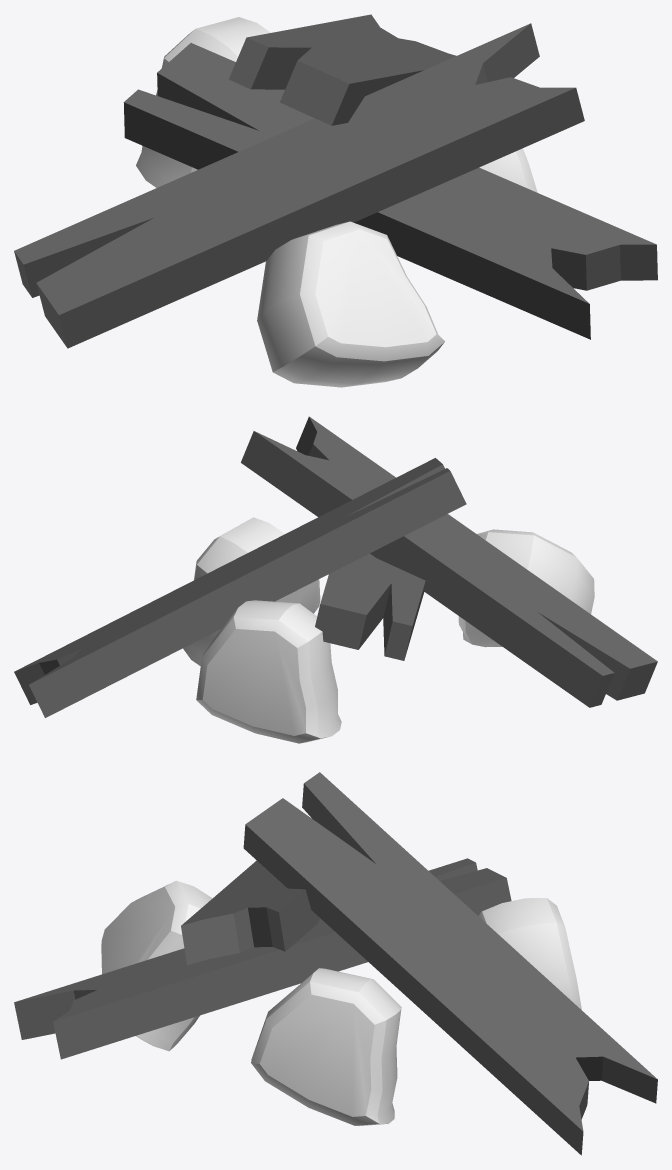
Rendered from SM_Rubbish.fbx.
The picture shows the model from 3 angles, top to bottom: view 1: azimuth 30°, elevation 25°; view 2: azimuth 150°, elevation 25°; view 3: azimuth 270°, elevation 25°; orthographic projection. The views are drawn at different scales.
Visible parts, largest first — view 1: Rubbish; view 2: Rubbish; view 3: Rubbish.
Part boxes in pixels (bbox=[...]): Rubbish: bbox=[14, 14, 657, 387]; Rubbish: bbox=[14, 416, 657, 743]; Rubbish: bbox=[14, 772, 657, 1155].
Size of the model in its own units: 300 by 139 by 320.
